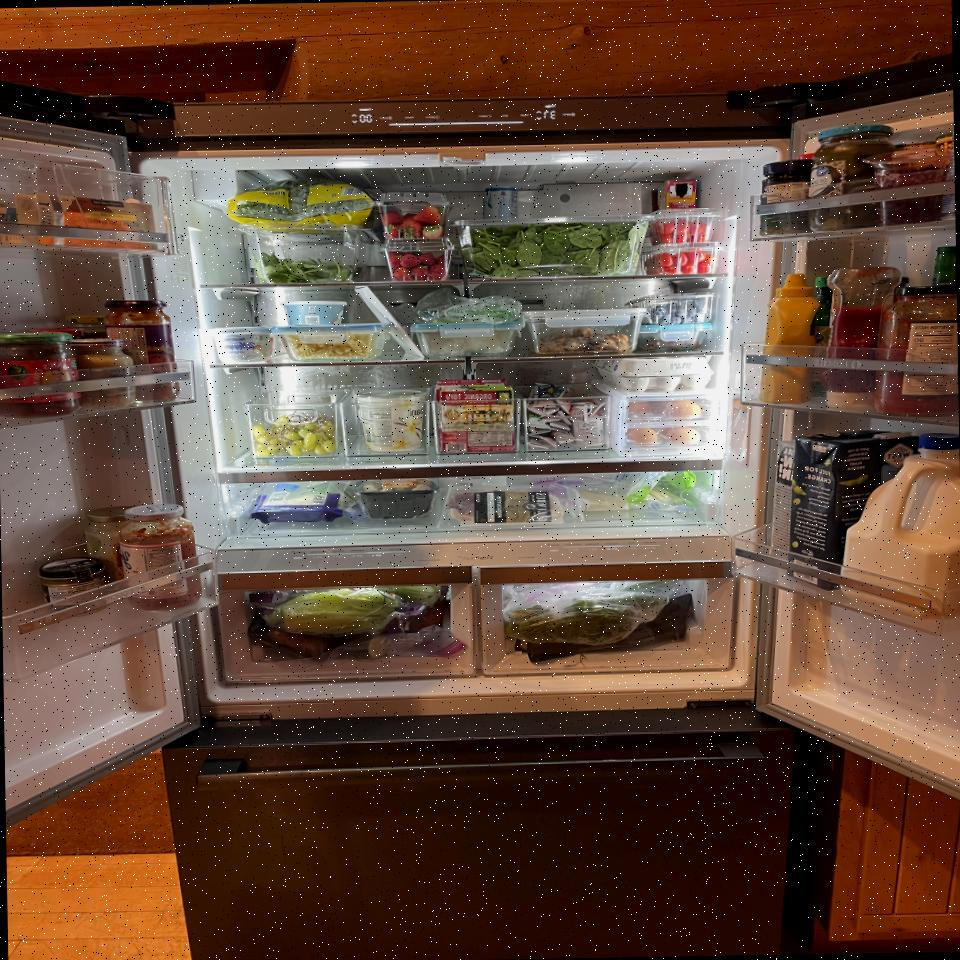Huevos: (595, 354, 714, 393), (622, 396, 704, 422), (625, 425, 704, 448)
Leche: (838, 430, 960, 618)
Mantequilla: (15, 192, 157, 253)
Queso: (576, 491, 630, 511)
Tomate: (640, 242, 723, 276), (648, 209, 721, 244)
Yogur: (355, 389, 426, 454)
